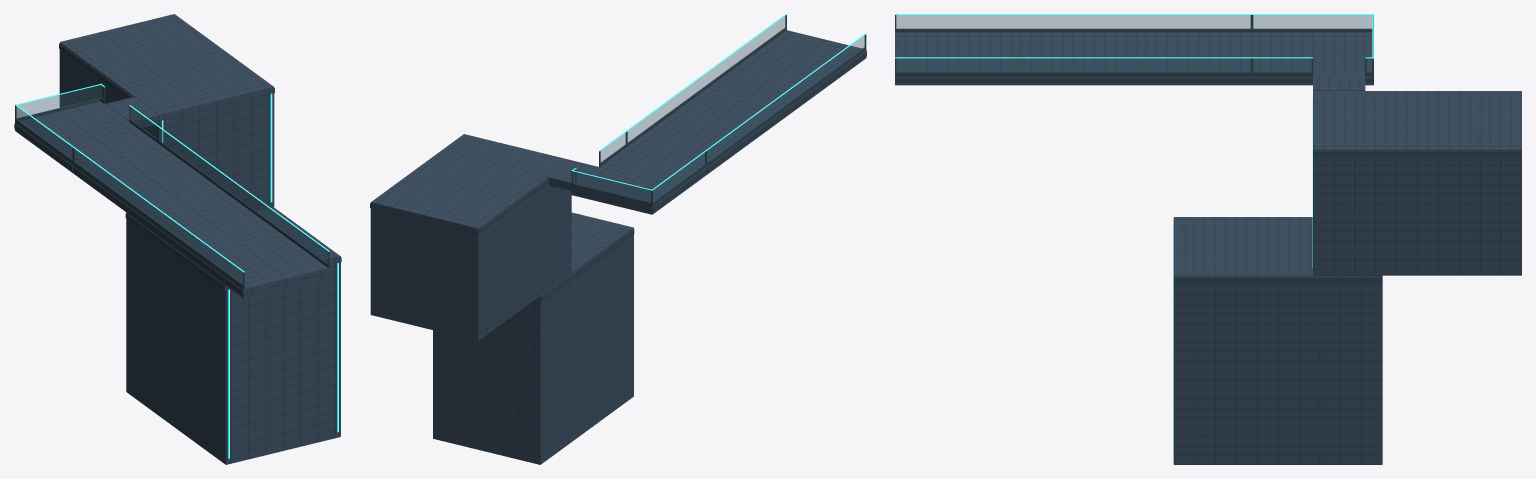
File: v02-detailed-04-04-coffered.glb
The picture shows the model from 3 angles, left to right: view 1: azimuth 30°, elevation 25°; view 2: azimuth 150°, elevation 25°; view 3: azimuth 270°, elevation 25°; orthographic projection. The views are drawn at different scales.
Visible parts, largest first — view 1: v02-detailed-04-04-coffered; view 2: v02-detailed-04-04-coffered; view 3: v02-detailed-04-04-coffered.
Part boxes in pixels (x1,y1,x2,y2): v02-detailed-04-04-coffered: (14,14,341,464); v02-detailed-04-04-coffered: (370,14,866,464); v02-detailed-04-04-coffered: (895,14,1521,464).
Size of the model in its own units: 16.1 by 21.13 by 36.
5 materials, 1 textured.
